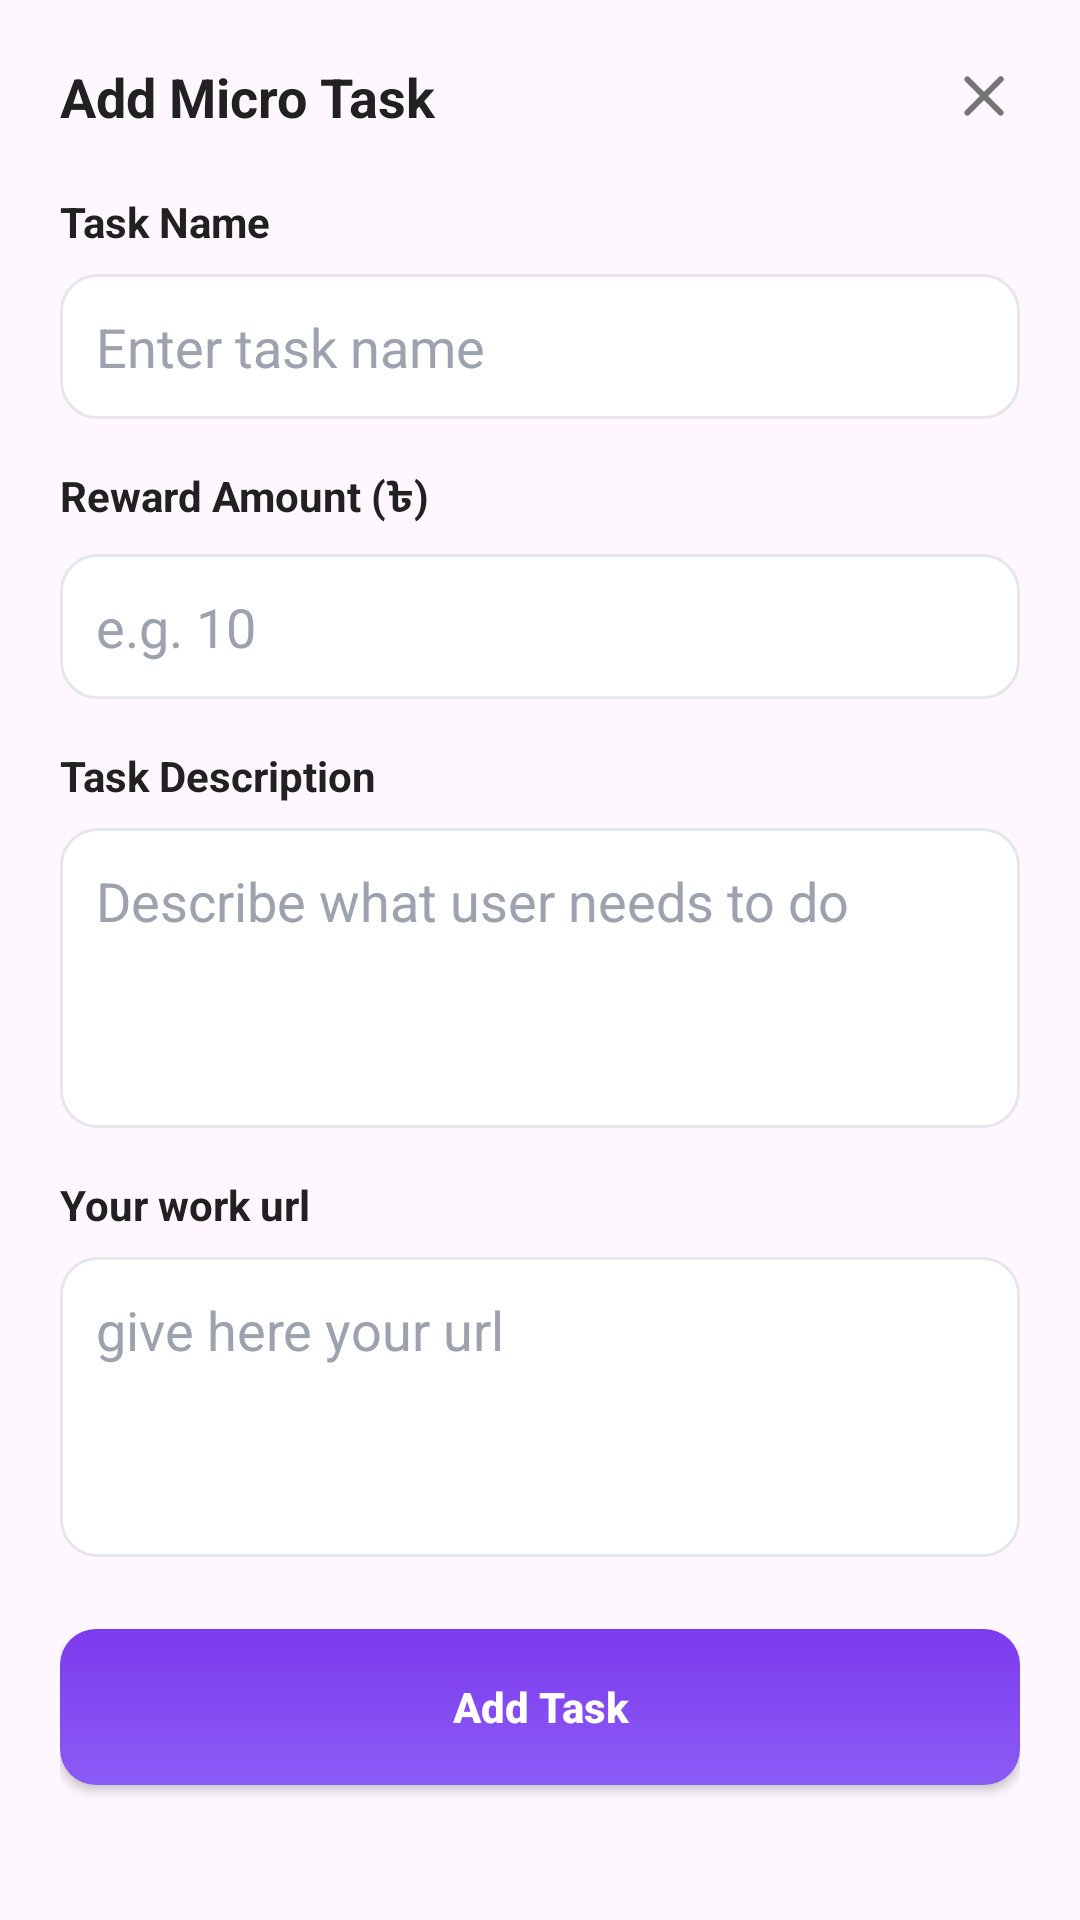

Locate icon controls on the screen. Image size 1080×1920, boxes as (x1, y1, x2, y2).
Close dialog: (964, 76, 1004, 116)
